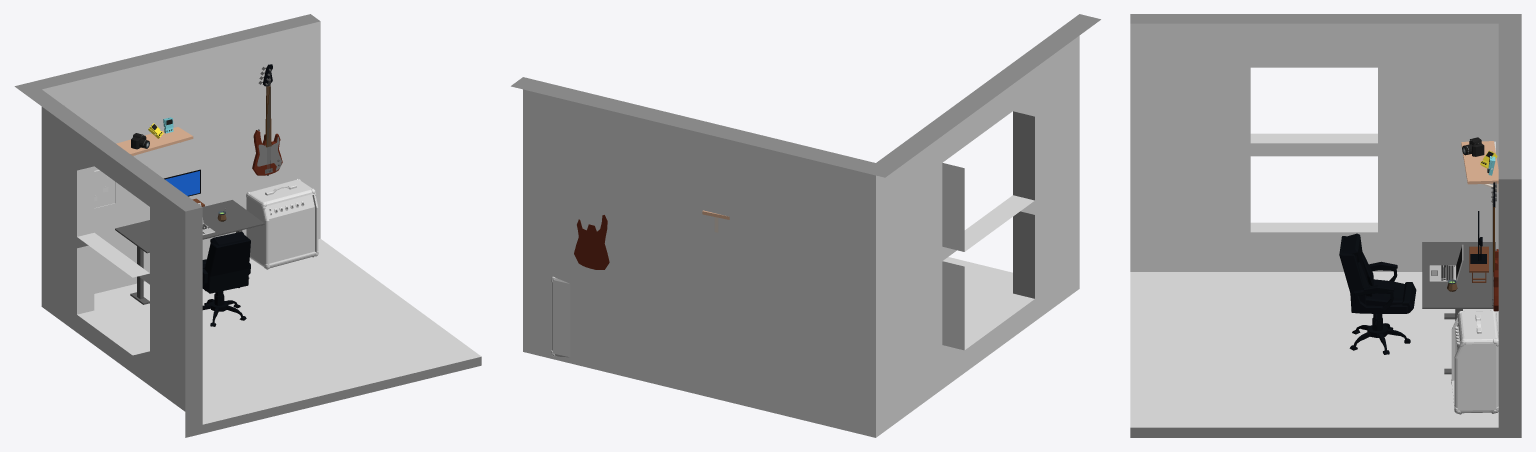
The model's file is studio_baked.gltf.
3 renders of one model, left to right at view 1: azimuth 30°, elevation 25°; view 2: azimuth 150°, elevation 25°; view 3: azimuth 270°, elevation 25°, orthographic. The views are drawn at different scales.
Visible parts, largest first — view 1: Plane, Amp, ExecutiveChair1, StandingDesk1, Bass, Shelf, board, Monitor1; view 2: Plane, Amp, Bass; view 3: Plane, Amp, ExecutiveChair1, StandingDesk1, Shelf, Bass, Laptop, elevator.
Boxes of the visible parts, x1,y1,x2,y2 form: Plane: [14, 14, 481, 437]; Amp: [246, 178, 318, 269]; ExecutiveChair1: [202, 231, 250, 326]; StandingDesk1: [115, 200, 264, 304]; Bass: [252, 64, 282, 175]; Shelf: [116, 127, 193, 156]; board: [94, 170, 116, 209]; Monitor1: [164, 169, 200, 196]; Plane: [511, 14, 1100, 437]; Amp: [551, 276, 570, 357]; Bass: [574, 215, 609, 269]; Plane: [1130, 14, 1521, 437]; Amp: [1451, 310, 1498, 414]; ExecutiveChair1: [1339, 233, 1416, 354]; StandingDesk1: [1422, 242, 1495, 374]; Shelf: [1461, 141, 1498, 192]; Bass: [1491, 181, 1498, 311]; Laptop: [1429, 244, 1463, 281]; elevator: [1469, 246, 1488, 282].
Bounding box in the file's own units: 12.82 × 9.35 × 12.82.
